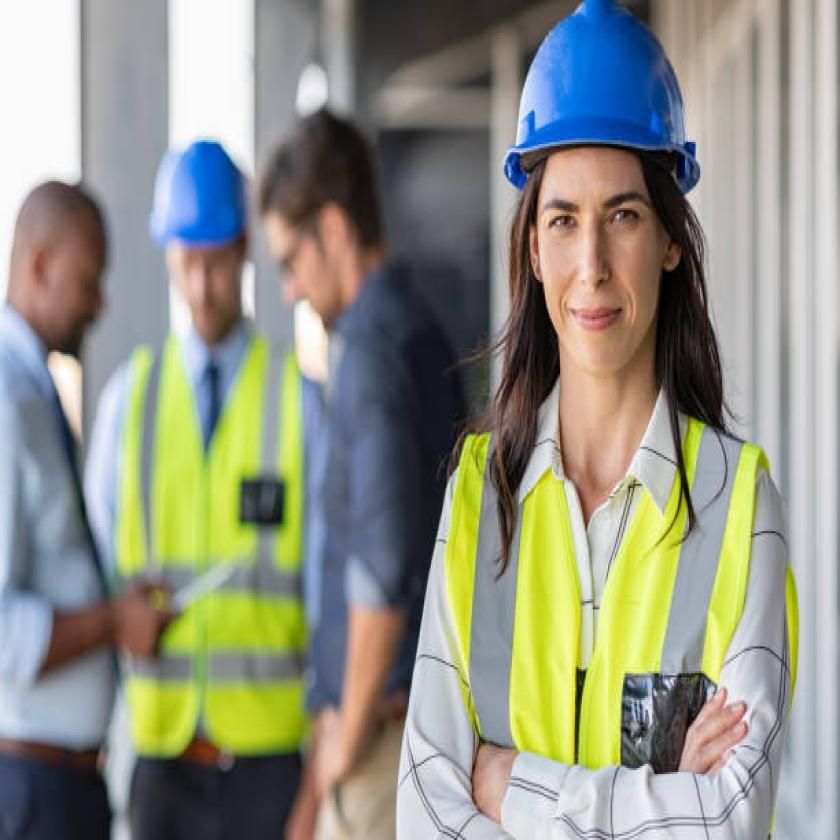Con_casco: (496, 0, 723, 401), (142, 120, 252, 349)
Sin_casco: (259, 90, 407, 343), (0, 157, 126, 377)
